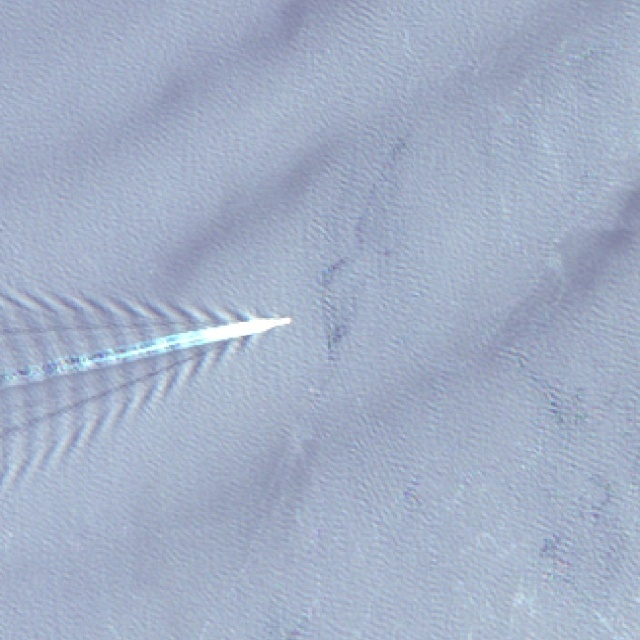wake: (40, 248, 319, 440)
